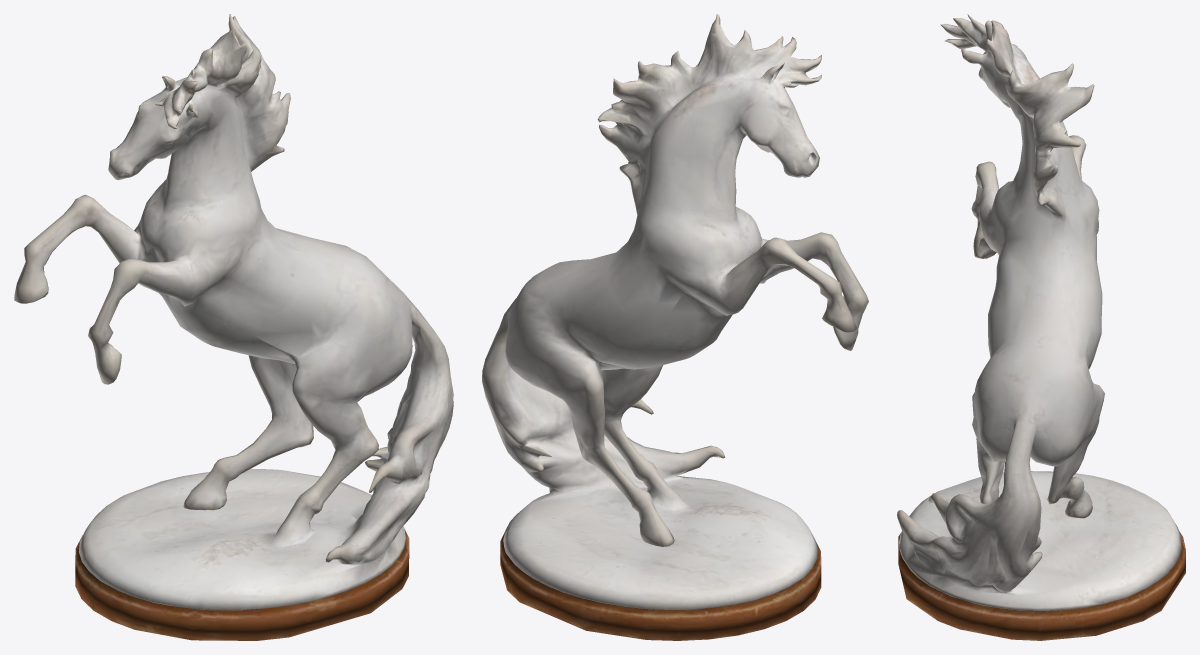
File: horse_statue_01.glb
The picture shows the model from 3 angles, left to right: view 1: azimuth 30°, elevation 25°; view 2: azimuth 150°, elevation 25°; view 3: azimuth 270°, elevation 25°; orthographic projection. The views are drawn at different scales.
Visible parts, largest first — view 1: horse_statue_01; view 2: horse_statue_01; view 3: horse_statue_01.
Boxes of the visible parts, x1,y1,x2,y2 form: horse_statue_01: (14,14,453,640); horse_statue_01: (482,14,868,640); horse_statue_01: (897,14,1185,640).
Size of the model in its own units: 0.1638 by 0.2199 by 0.1072.
Materials: 1 (1 with a texture image).
